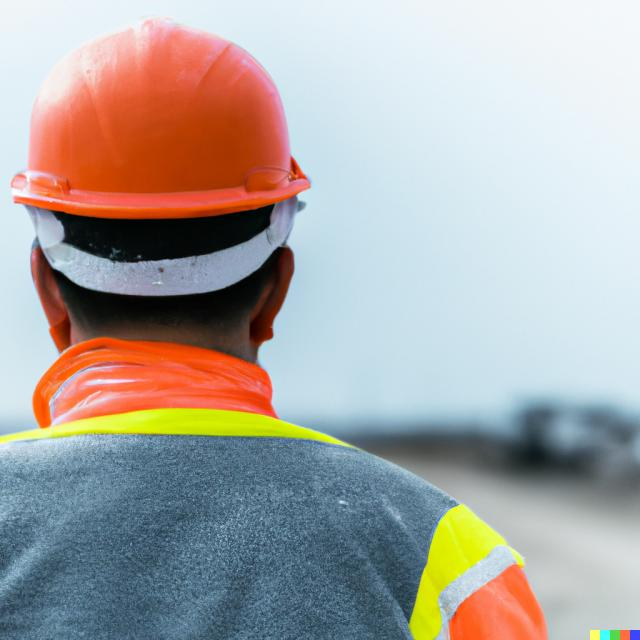Reflective-Jacket: (0, 352, 547, 640), (403, 504, 548, 640)
Safety-Helmet: (8, 21, 316, 216)
